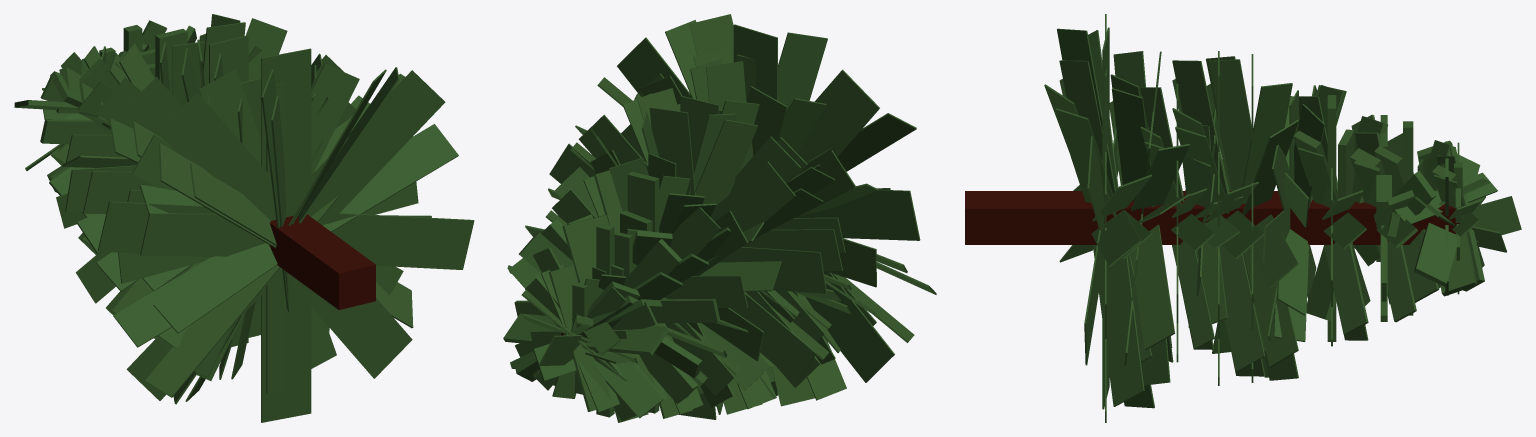
The model's file is treechristmas.dae.
The picture shows the model from 3 angles, left to right: view 1: azimuth 30°, elevation 25°; view 2: azimuth 150°, elevation 25°; view 3: azimuth 270°, elevation 25°; orthographic projection.
Visible parts, largest first — view 1: Cube.001, Cube.004, Cube.006, Cube.008, Cube.005, Cube, Cube.023, Cube.026, Cube.027, Cube.020, Cube.030, Cube.015 (+44 smaller); view 2: Cube.006, Cube.004, Cube.008, Cube.067, Cube.070, Cube.069, Cube.065, Cube.063, Cube.007, Cube.109, Cube.002, Cube.085 (+78 smaller); view 3: Cube, Cube.003, Cube.061, Cube.018, Cube.058, Cube.064, Cube.062, Cube.054, Cube.011, Cube.088, Cube.038, Cube.112 (+53 smaller).
Part boxes in pixels (bbox=[...]): Cube.001: bbox=[261, 48, 311, 422]; Cube.004: bbox=[97, 201, 474, 269]; Cube.006: bbox=[126, 70, 445, 400]; Cube.008: bbox=[159, 92, 412, 378]; Cube.005: bbox=[113, 124, 458, 347]; Cube: bbox=[269, 214, 375, 309]; Cube.023: bbox=[183, 119, 389, 352]; Cube.026: bbox=[153, 243, 277, 333]; Cube.027: bbox=[140, 213, 431, 256]; Cube.020: bbox=[198, 69, 336, 368]; Cube.030: bbox=[266, 82, 286, 394]; Cube.015: bbox=[197, 63, 359, 380]; Cube.006: bbox=[617, 37, 894, 382]; Cube.004: bbox=[796, 189, 920, 240]; Cube.008: bbox=[798, 69, 879, 162]; Cube.067: bbox=[549, 143, 816, 383]; Cube.070: bbox=[710, 161, 795, 231]; Cube.069: bbox=[695, 119, 757, 205]; Cube.065: bbox=[649, 107, 716, 419]; Cube.063: bbox=[719, 247, 826, 293]; Cube.007: bbox=[778, 32, 827, 111]; Cube.109: bbox=[508, 258, 663, 418]; Cube.002: bbox=[689, 14, 814, 406]; Cube.085: bbox=[552, 189, 734, 395]; Cube: bbox=[965, 191, 1459, 244]; Cube.003: bbox=[1088, 30, 1144, 406]; Cube.061: bbox=[1208, 59, 1268, 377]; Cube.018: bbox=[1109, 101, 1174, 350]; Cube.058: bbox=[1172, 79, 1265, 371]; Cube.064: bbox=[1206, 84, 1298, 367]; Cube.062: bbox=[1212, 83, 1292, 353]; Cube.054: bbox=[1172, 60, 1265, 376]; Cube.011: bbox=[1111, 88, 1172, 347]; Cube.088: bbox=[1299, 115, 1368, 335]; Cube.038: bbox=[1172, 171, 1214, 349]; Cube.112: bbox=[1414, 154, 1480, 286].
Size of the model in its own units: 4.74 by 6.52 by 4.64.
